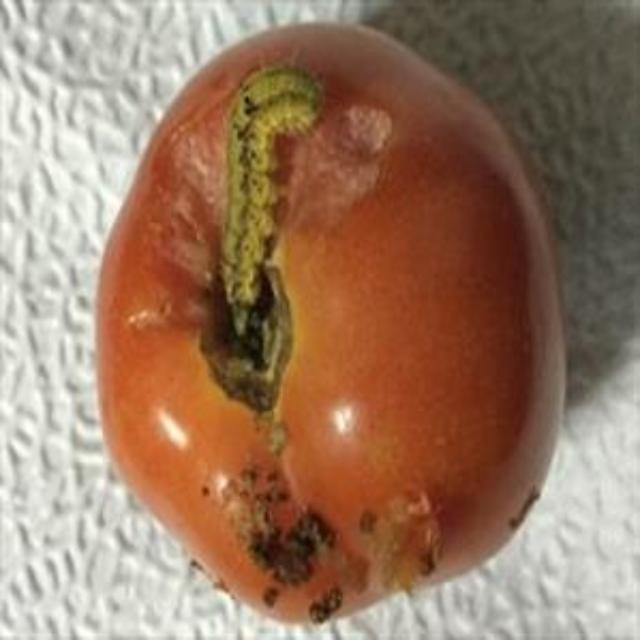Cotton bollworm: (166, 47, 382, 359)
